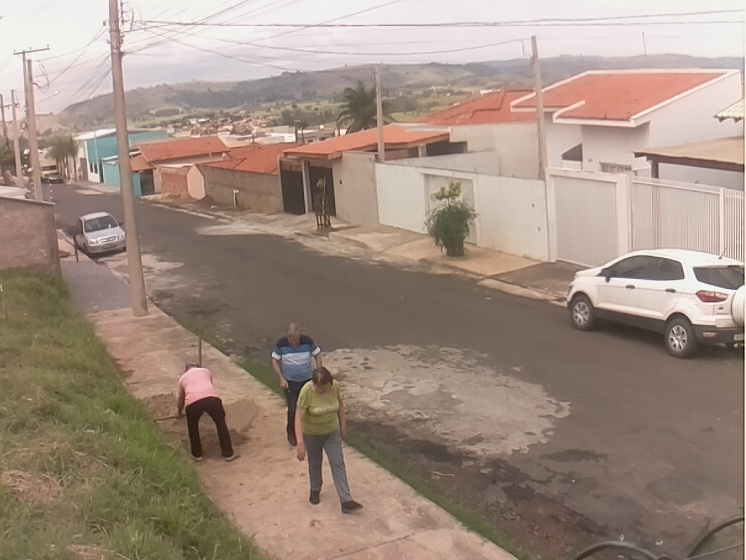person: (292, 367, 364, 515), (176, 361, 239, 463), (271, 323, 323, 440)
